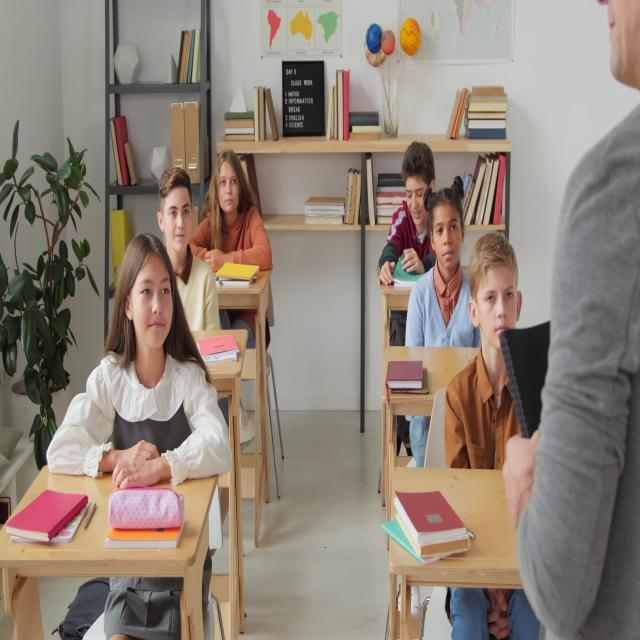listening: (45, 241, 235, 639), (194, 152, 274, 438), (443, 244, 526, 472), (404, 184, 478, 354), (157, 167, 222, 331)
reading: (376, 140, 434, 286)
